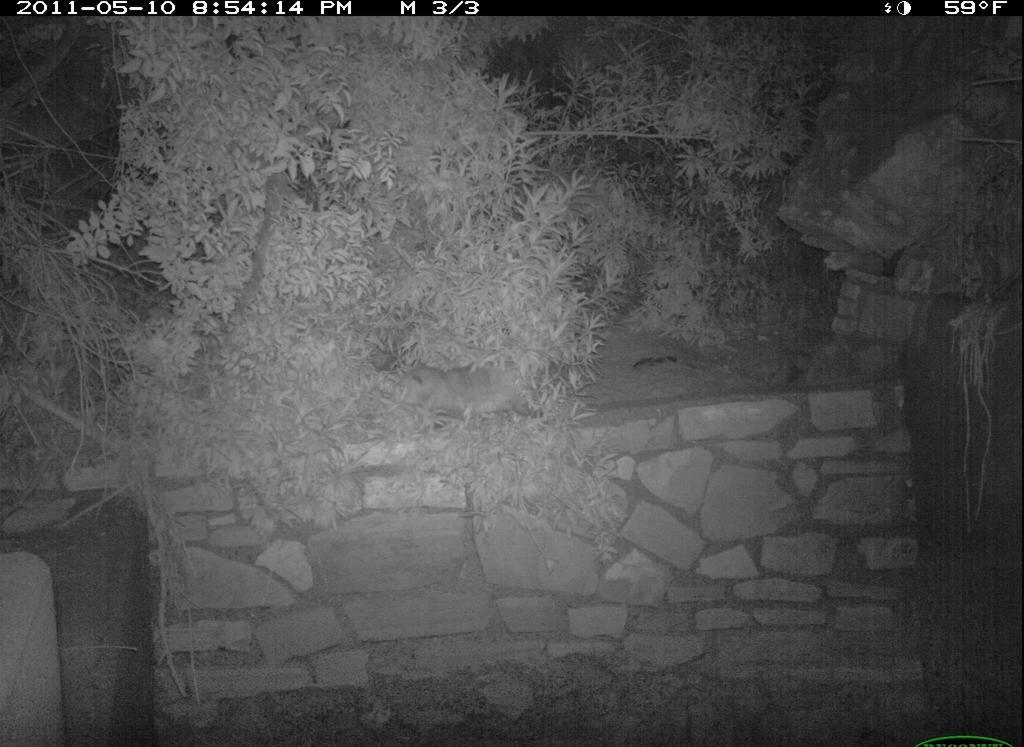opossum: (383, 361, 548, 434)
